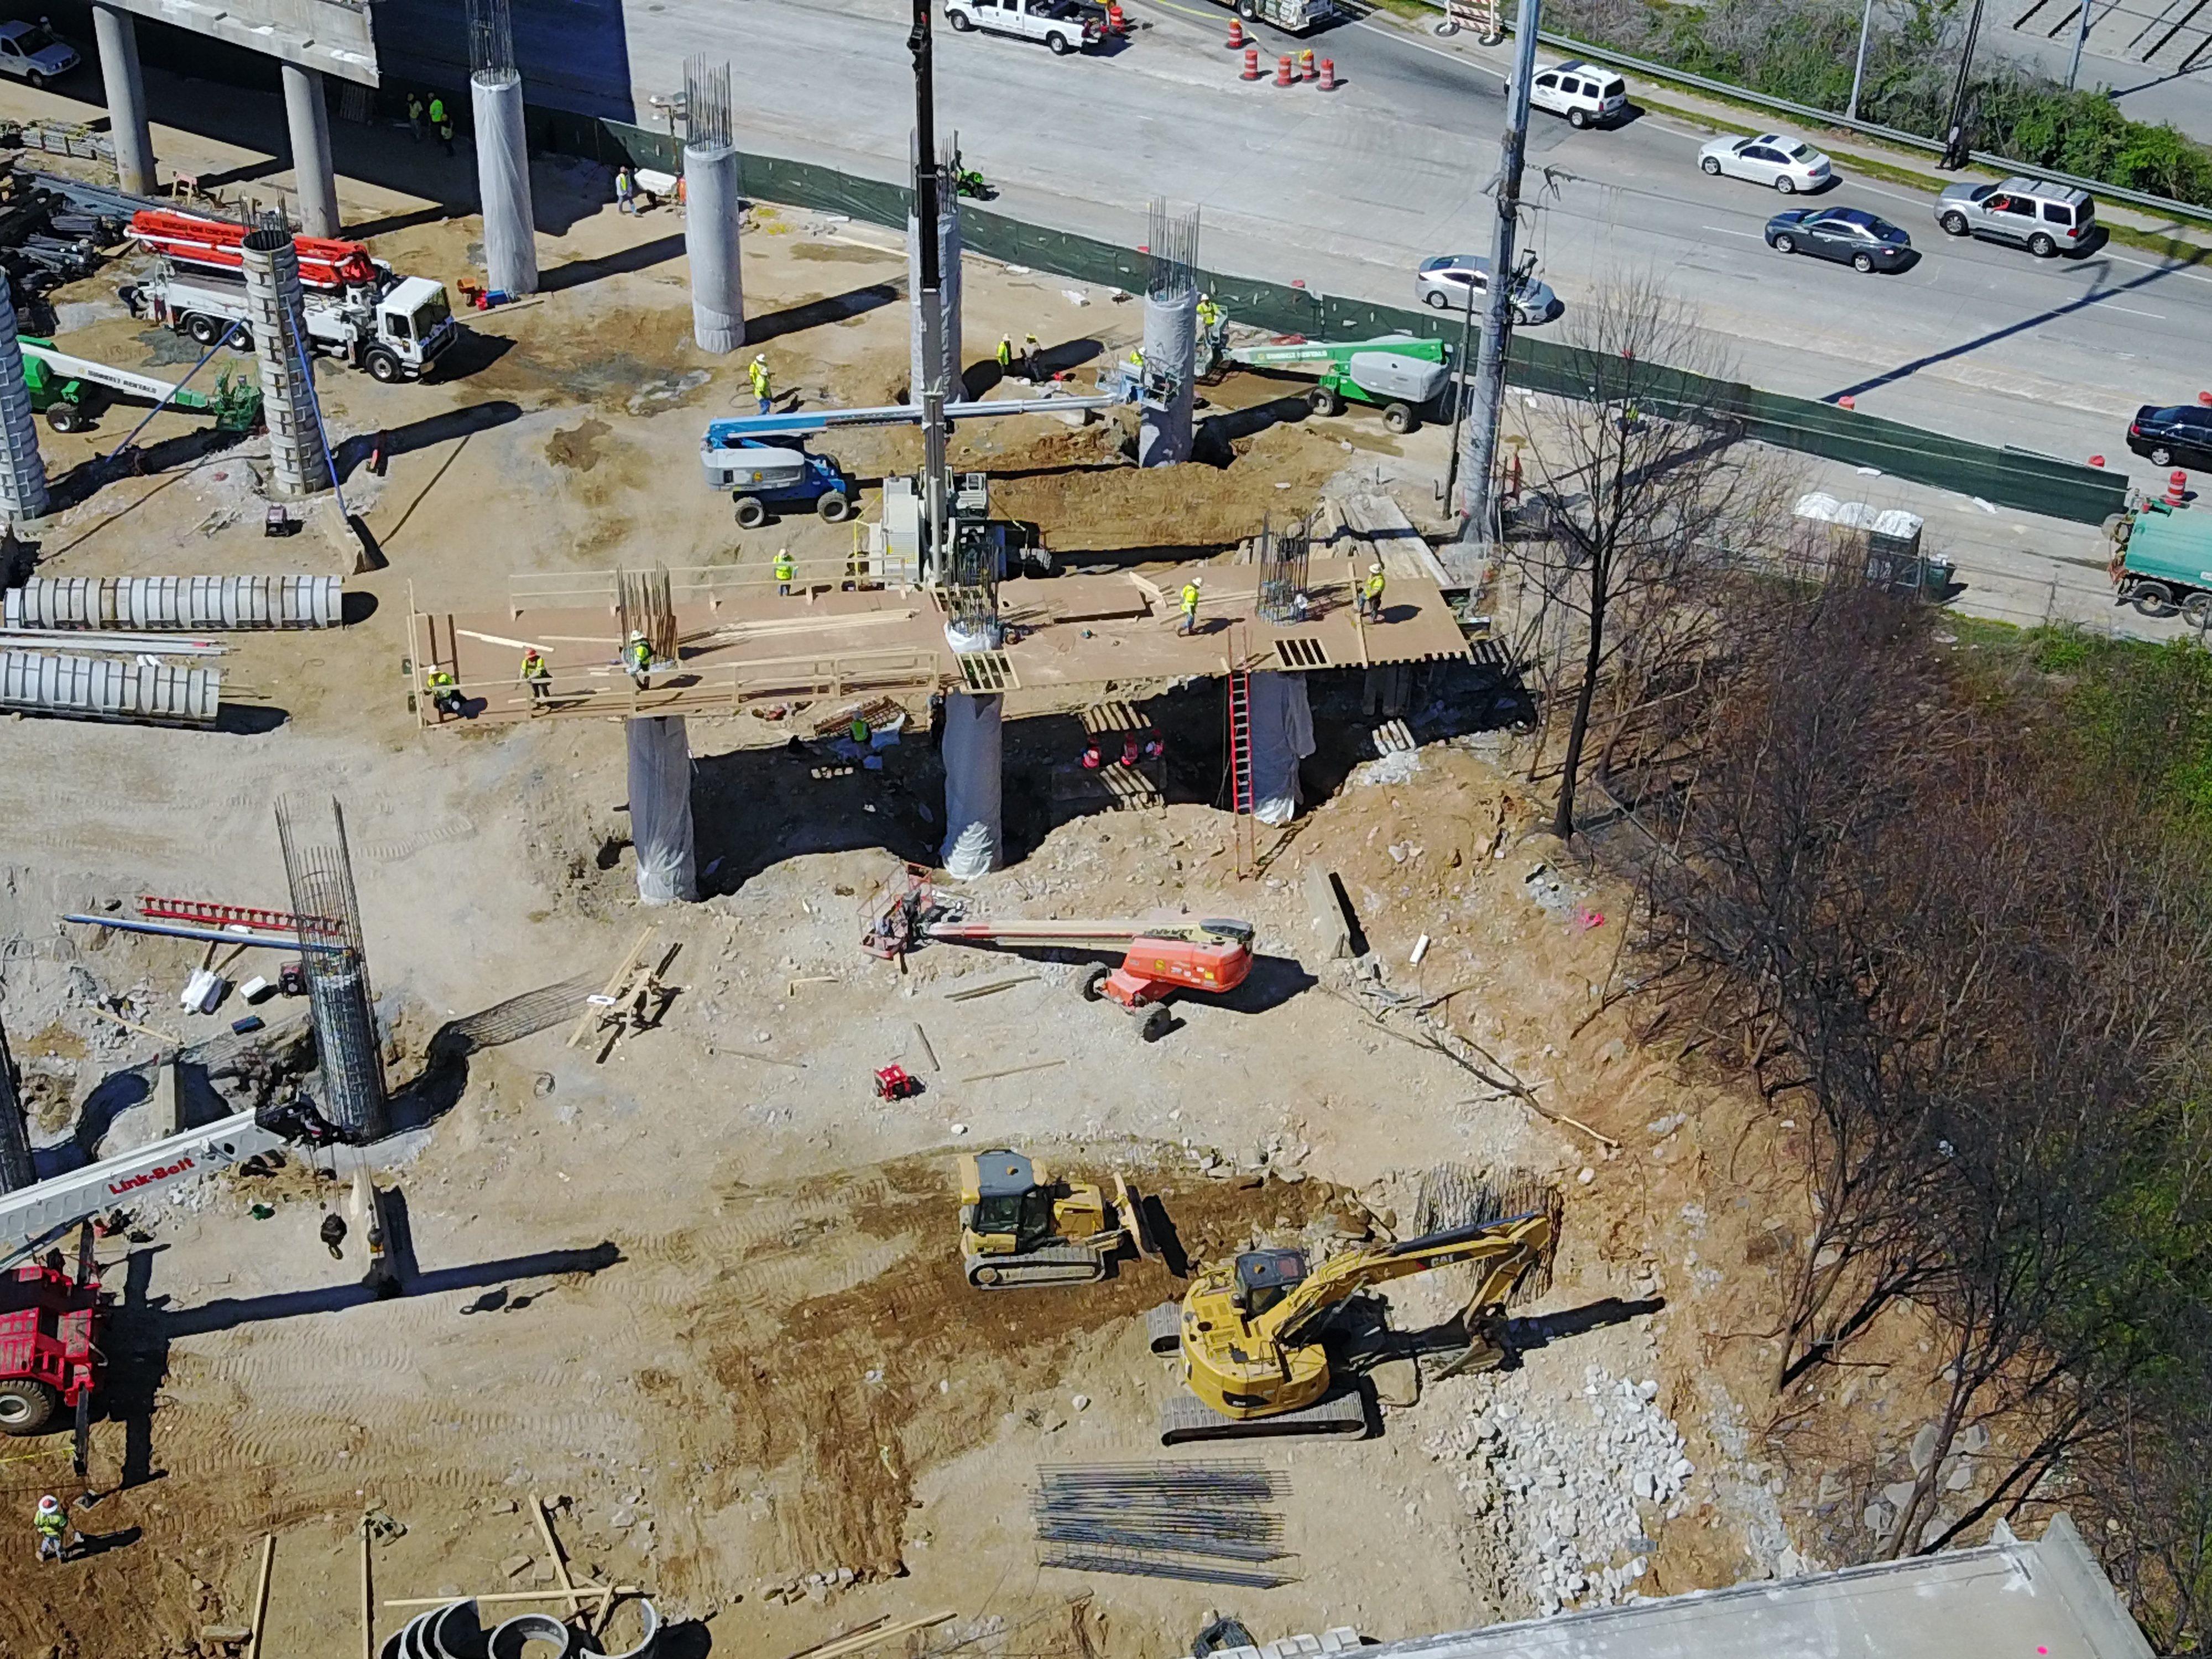crane: (0, 1094, 348, 1441), (1144, 1204, 1566, 1446), (695, 338, 1188, 532), (853, 859, 1258, 1044), (122, 202, 460, 385), (1188, 300, 1458, 432), (0, 326, 270, 436)
